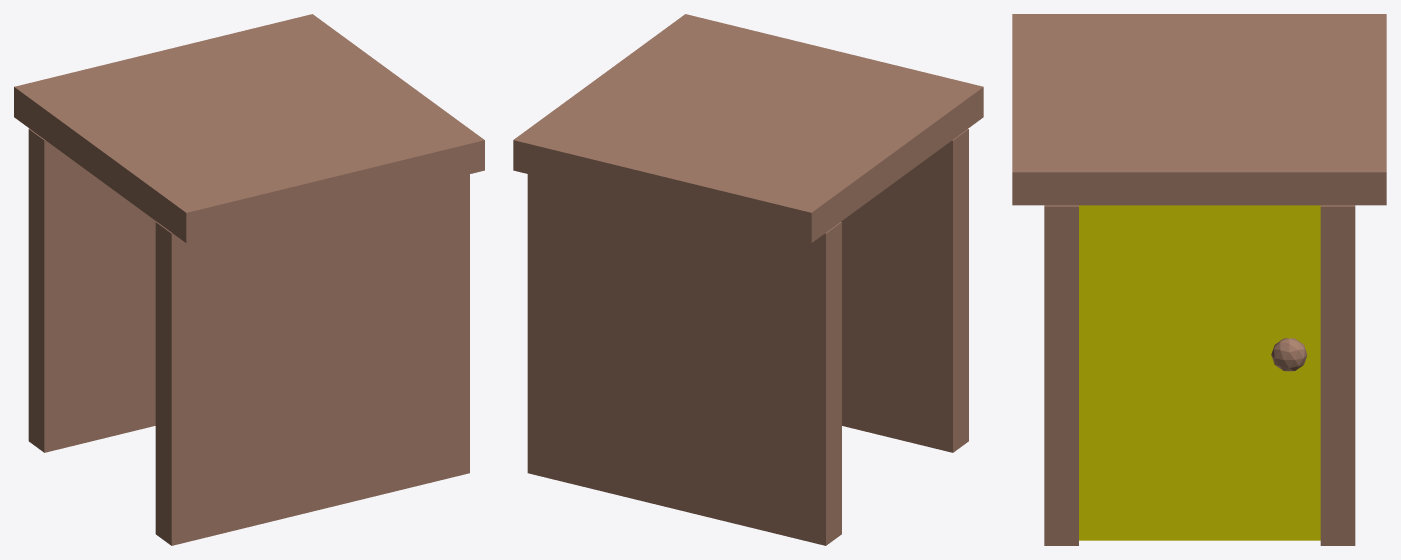
File: DoorWay.fbx
3 views of the same model, side by side, from view 1: azimuth 30°, elevation 25°; view 2: azimuth 150°, elevation 25°; view 3: azimuth 270°, elevation 25° (orthographic). The views are drawn at different scales.
Visible parts, largest first — view 1: Cube.001; view 2: Cube.001; view 3: Cube.001.
Part boxes in pixels (box(x1,y1,x2,y2)): Cube.001: box(14, 14, 484, 545); Cube.001: box(513, 14, 983, 545); Cube.001: box(1012, 14, 1386, 545).
Bounding box in the file's own units: 207 × 220 × 200.
